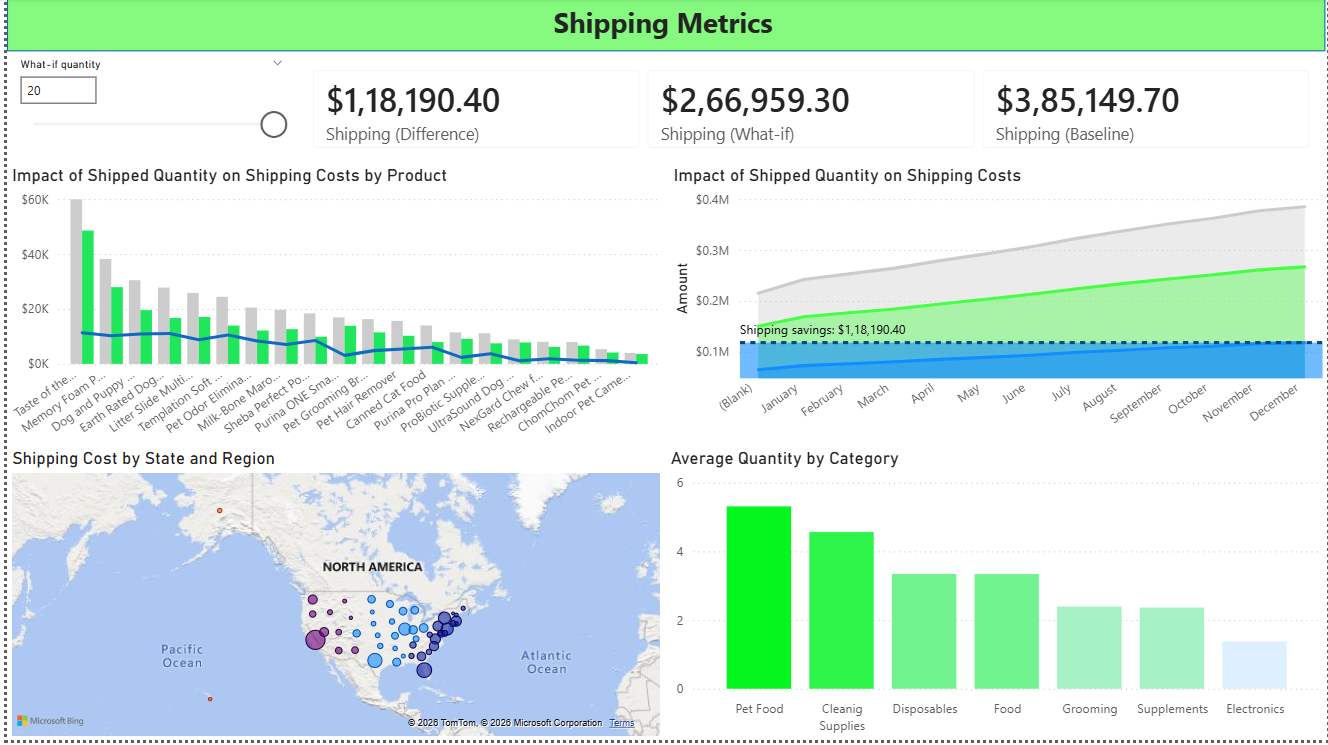

Layout of this report page (visuals, bound fields, positions):
{"tool":"powerbi","page":{"name":"Shipping Metrics","canvas":[1280,720],"ordinal":1},"visuals":[{"type":"slicer","fields":{"Values":["What-if quantity.What-if quantity"]},"box":[0,51.7,280,98.5],"z":0},{"type":"cardVisual","fields":{"Data":["fact_sales.Shipping (Difference)","fact_sales.Shipping (What-if)","fact_sales.Shipping (Baseline)"]},"box":[279.3,51.7,1001.7,110.3],"z":1000},{"type":"lineClusteredColumnComboChart","title":"Impact of Shipped Quantity on Shipping Costs by Product","fields":{"Category":["fact_sales.Description"],"Y":["fact_sales.Shipping (Baseline)","fact_sales.Shipping (What-if)"],"Y2":["fact_sales.Shipping (Difference)"]},"box":[0,162.1,637.9,274.1],"z":2000},{"type":"areaChart","title":"Impact of Shipped Quantity on Shipping Costs","fields":{"Y":["fact_sales.Baseline Running Total","fact_sales.What-if running total","fact_sales.Shipping Difference Running Total"],"Category":["fact_sales.Transaction Date.Variation.Date Hierarchy.Year","fact_sales.Transaction Date.Variation.Date Hierarchy.Quarter","fact_sales.Transaction Date.Variation.Date Hierarchy.Month","fact_sales.Transaction Date.Variation.Date Hierarchy.Day"]},"box":[641.4,162.1,639.7,274.1],"z":3000},{"type":"clusteredColumnChart","title":"Average Quantity by Category","fields":{"Y":["Avg(fact_sales.Quantity)"],"Category":["dim_products.Category"]},"box":[639.2,436.4,641.2,284.3],"z":4000},{"type":"map","title":"Shipping Cost by State and Region","fields":{"Category":["state_region_mapping.State"],"Series":["state_region_mapping.Region"],"Size":["fact_sales.Shipping (Baseline)"]},"box":[0,436.4,639.2,284.3],"z":5000},{"type":"shape","box":[0,0,1279.3,51.7],"z":6000},{"type":"textbox","box":[470.7,0,332.8,51.7],"z":7000}]}

Visuals, with their boxes in screenshot pixels (x1, y1, x2, y2), scaled from the page's 1280x720 canvas onto the 1328x745 screenshot:
slicer - What-if quantity.What-if quantity: [0,53,290,155]
cardVisual - fact_sales.Shipping (Difference) x fact_sales.Shipping (What-if): [290,53,1327,168]
"Impact of Shipped Quantity on Shipping Costs by Product" lineClusteredColumnComboChart: [0,168,662,451]
"Impact of Shipped Quantity on Shipping Costs" areaChart: [665,168,1327,451]
"Average Quantity by Category" clusteredColumnChart: [663,452,1327,744]
"Shipping Cost by State and Region" map: [0,452,663,744]
shape: [0,0,1327,53]
textbox: [488,0,834,53]
